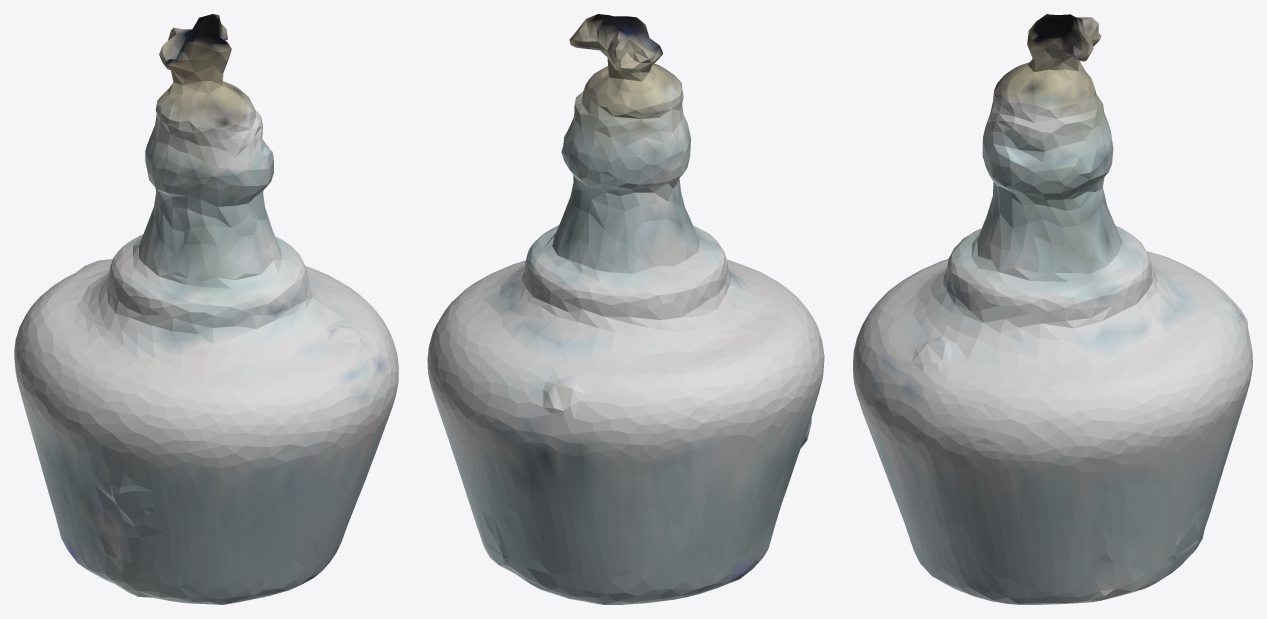
Rendered from scan.obj.
3 renders of one model, left to right at view 1: azimuth 30°, elevation 25°; view 2: azimuth 150°, elevation 25°; view 3: azimuth 270°, elevation 25°, orthographic. The views are drawn at different scales.
Parts seen in each view (by area): view 1: scan.ply; view 2: scan.ply; view 3: scan.ply.
Boxes of the visible parts, x1=… form: scan.ply: x1=14, y1=14, x2=398, y2=604; scan.ply: x1=427, y1=14, x2=824, y2=604; scan.ply: x1=853, y1=14, x2=1252, y2=604.
Bounding box in the file's own units: 0.0767 × 0.1189 × 0.0774.
